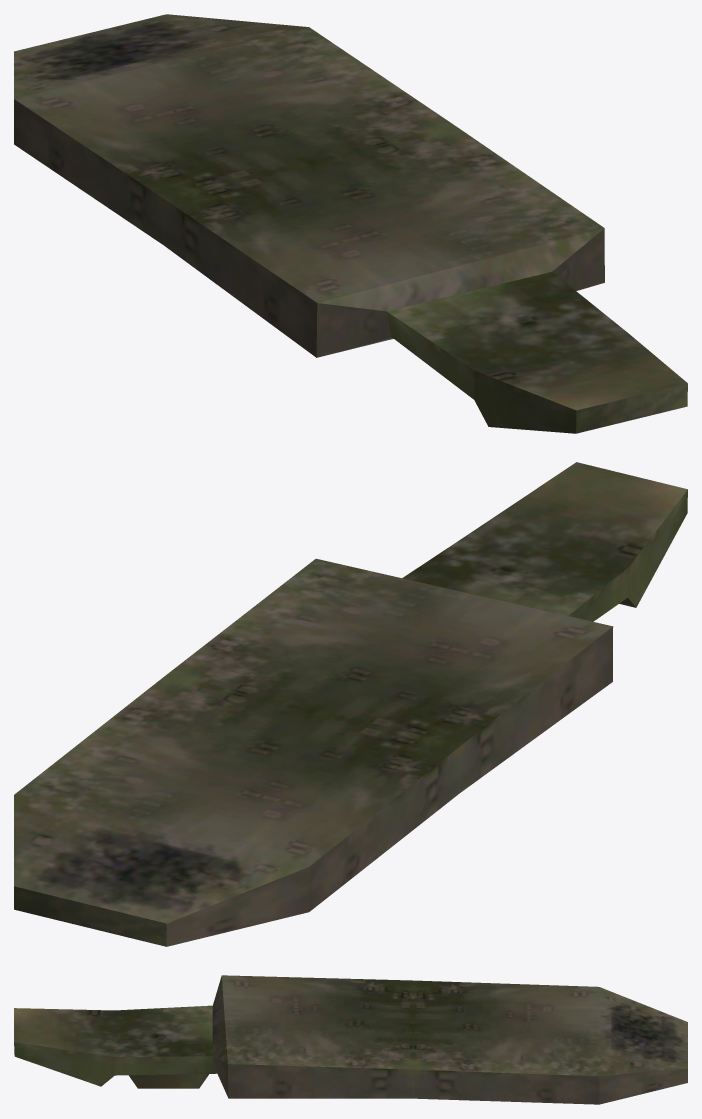
Rendered from chassis01.fbx.
3 views of the same model, one above another, from view 1: azimuth 30°, elevation 25°; view 2: azimuth 150°, elevation 25°; view 3: azimuth 270°, elevation 25° (orthographic). The views are drawn at different scales.
Visible parts, largest first — view 1: shassis1; view 2: shassis1; view 3: shassis1.
Boxes of the visible parts, left/top/right/bottom form: shassis1: left=14, top=14, right=687, bottom=433; shassis1: left=14, top=462, right=687, bottom=946; shassis1: left=14, top=975, right=687, bottom=1104.
Bounding box in the file's own units: 1.39 × 0.4402 × 4.41.
